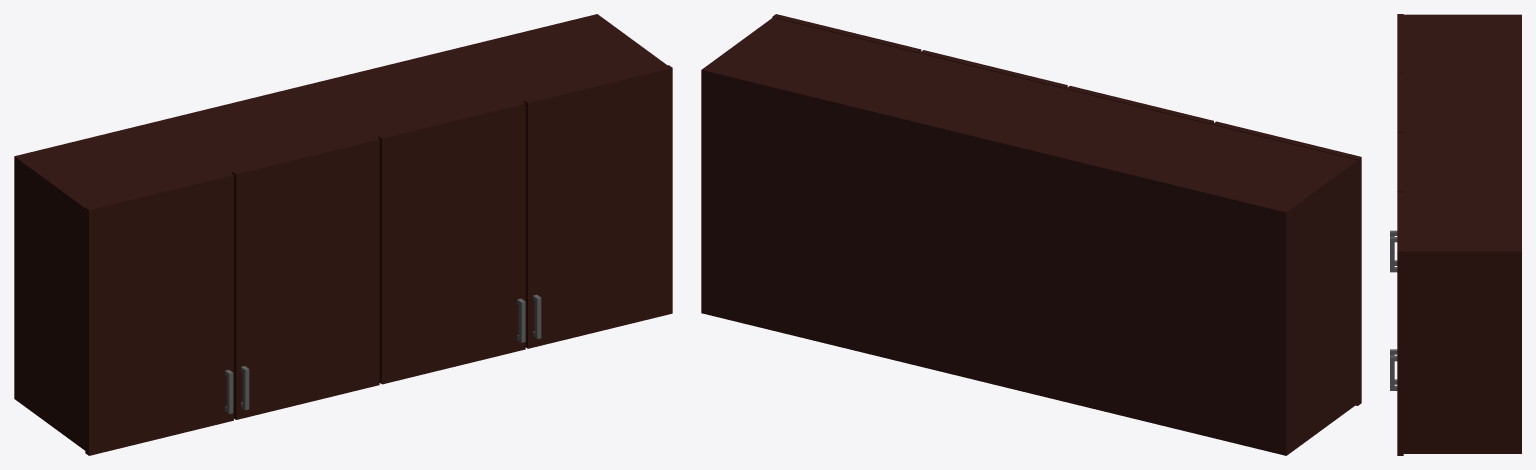
The picture shows the model from 3 angles, left to right: view 1: azimuth 30°, elevation 25°; view 2: azimuth 150°, elevation 25°; view 3: azimuth 270°, elevation 25°; orthographic projection. The views are drawn at different scales.
Parts seen in each view (by area): view 1: kitchen_item_025; view 2: kitchen_item_025; view 3: kitchen_item_025.
Boxes of the visible parts, x1,y1,x2,y2 form: kitchen_item_025: (14,14,672,455); kitchen_item_025: (701,14,1361,455); kitchen_item_025: (1390,14,1521,455).
Size of the model in its own units: 2.2 by 0.8859 by 0.5175.
